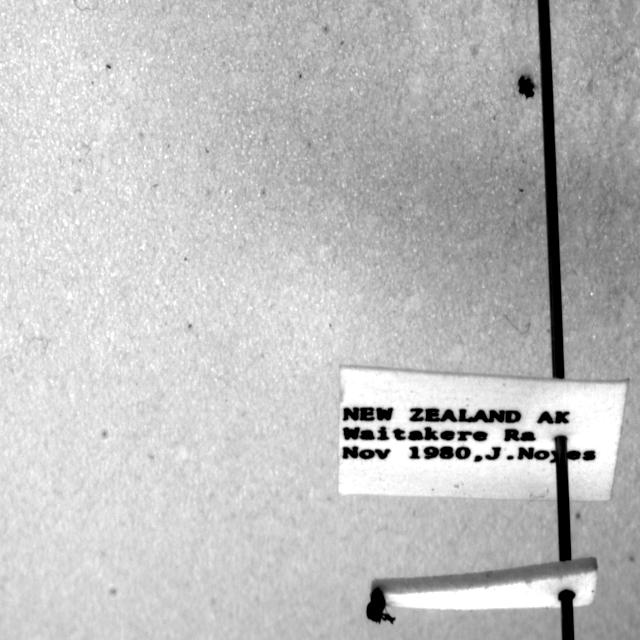typed_label: (339, 368, 628, 501)
